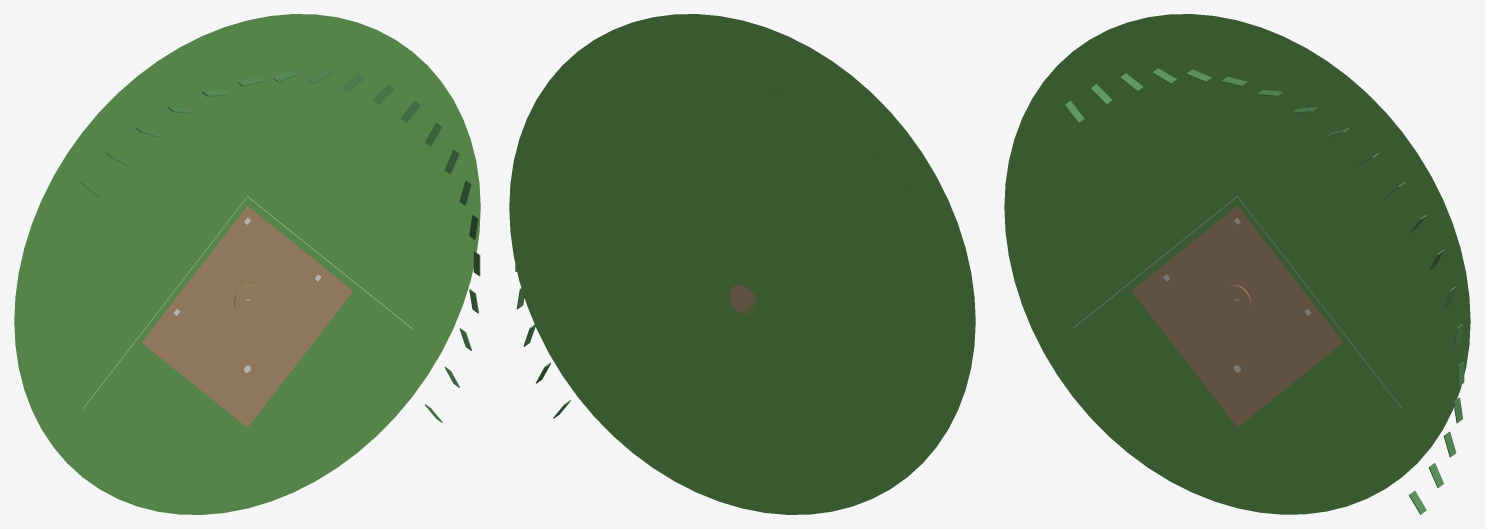
Rendered from sandlot_field.glb.
3 views of the same model, side by side, from view 1: azimuth 30°, elevation 25°; view 2: azimuth 150°, elevation 25°; view 3: azimuth 330°, elevation 25° (orthographic).
Visible parts, largest first — view 1: GrassField, DirtInfield, PitchersMound; view 2: GrassField, PitchersMound; view 3: GrassField, DirtInfield, PitchersMound.
Boxes of the visible parts, bbox=[...] form: GrassField: bbox=[14, 14, 480, 514]; DirtInfield: bbox=[141, 206, 352, 427]; PitchersMound: bbox=[234, 285, 261, 313]; GrassField: bbox=[509, 14, 975, 514]; PitchersMound: bbox=[729, 285, 755, 313]; GrassField: bbox=[1004, 14, 1470, 514]; DirtInfield: bbox=[1132, 206, 1343, 427]; PitchersMound: bbox=[1223, 285, 1250, 313].
Bounding box in the file's own units: 140 × 140 × 3.
